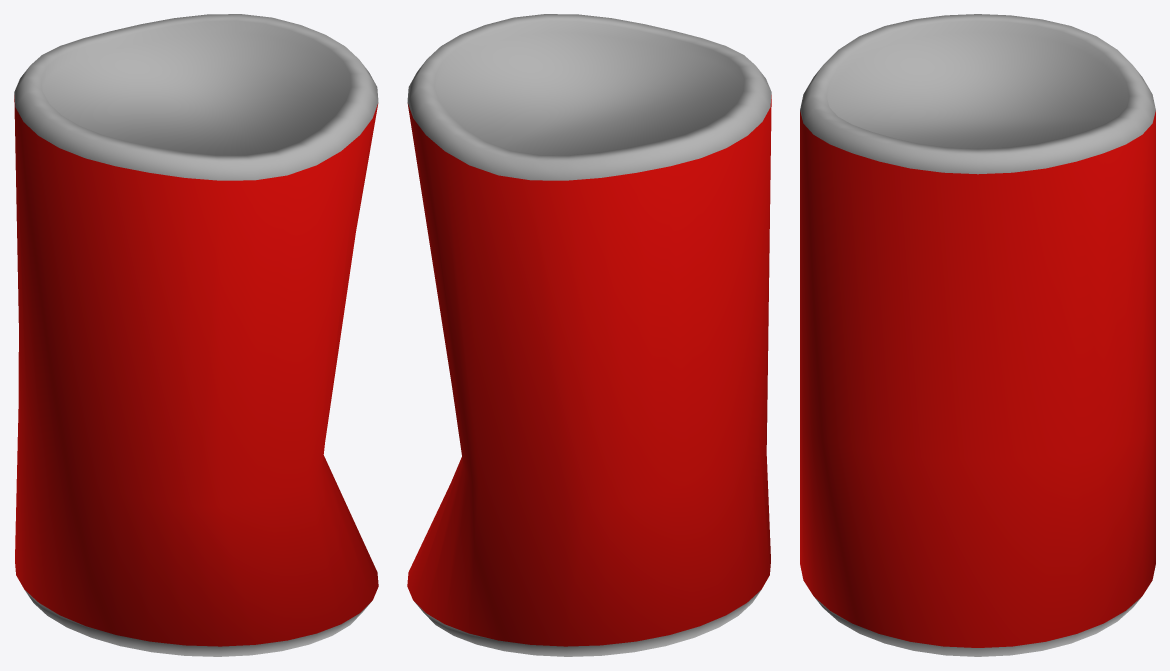
File: Can.fbx
3 views of the same model, side by side, from view 1: azimuth 30°, elevation 25°; view 2: azimuth 150°, elevation 25°; view 3: azimuth 270°, elevation 25° (orthographic). The views are drawn at different scales.
Parts seen in each view (by area): view 1: Cylinder; view 2: Cylinder; view 3: Cylinder.
Boxes of the visible parts, x1,y1,x2,y2 form: Cylinder: (14, 14, 378, 656); Cylinder: (407, 14, 771, 656); Cylinder: (800, 14, 1155, 656).
Size of the model in its own units: 177 by 276 by 177.
